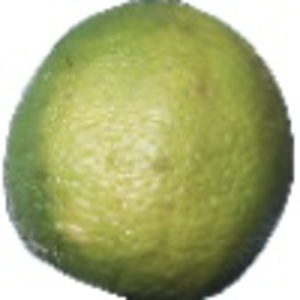limão: (3, 1, 296, 300)
